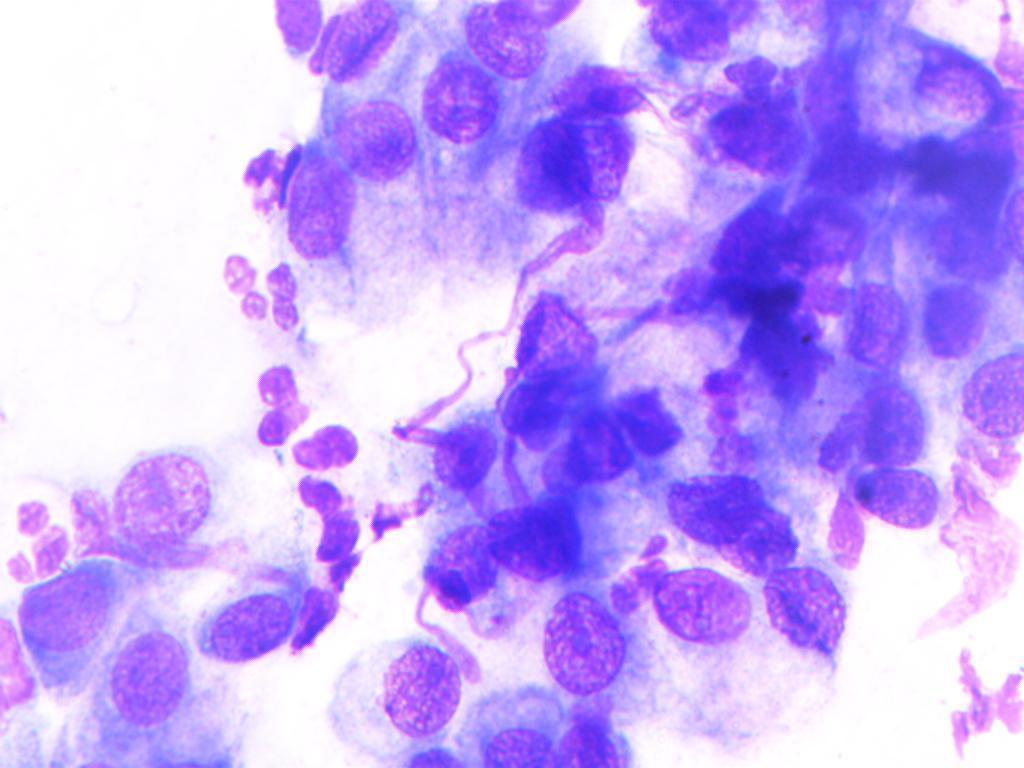artifact: (908, 469, 1024, 650), (937, 636, 1024, 768)
epithelial: (91, 606, 198, 767), (324, 634, 465, 751), (517, 107, 646, 229), (483, 351, 621, 457), (111, 427, 232, 544), (686, 66, 809, 177), (804, 368, 932, 470), (941, 328, 1024, 467), (22, 553, 129, 659), (644, 568, 759, 665), (531, 584, 626, 694), (193, 572, 303, 663), (835, 451, 951, 536), (657, 461, 769, 547), (331, 91, 424, 193), (834, 263, 913, 378), (409, 51, 507, 143), (450, 3, 558, 85), (700, 499, 812, 575), (271, 158, 354, 260), (769, 193, 874, 271), (411, 412, 504, 499), (602, 377, 688, 463), (916, 270, 995, 361), (418, 521, 493, 609), (543, 708, 640, 768), (473, 704, 560, 768), (644, 2, 738, 61), (266, 0, 324, 59)
goblet_cell: (730, 564, 856, 718), (306, 0, 469, 107), (486, 488, 671, 581)
neutrophil: (203, 242, 328, 340), (243, 360, 330, 458), (214, 132, 301, 222), (283, 472, 365, 561), (599, 519, 668, 623), (7, 496, 73, 583), (278, 423, 387, 473)
